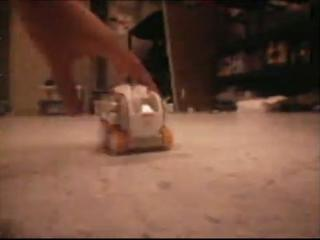cozmo: (92, 82, 173, 155)
